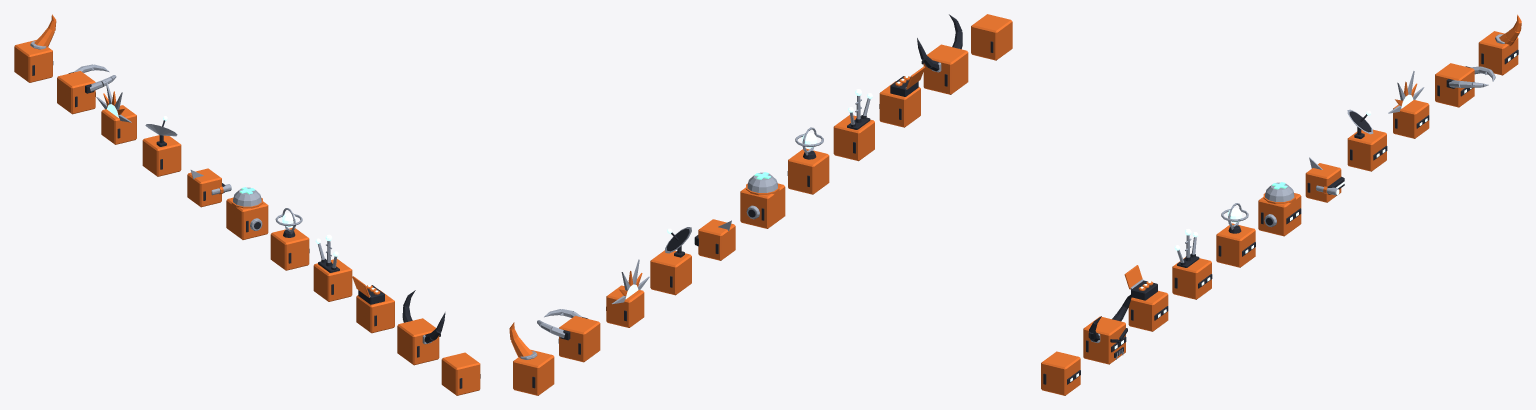
Rendered from heads.glb.
3 views of the same model, side by side, from view 1: azimuth 30°, elevation 25°; view 2: azimuth 150°, elevation 25°; view 3: azimuth 330°, elevation 25° (orthographic). The views are drawn at different scales.
Parts seen in each view (by area): view 1: demon, medic, orb, pincer, antenna, horn, dish, dispenser, crest, rookie, visor; view 2: demon, medic, dish, pincer, orb, horn, antenna, dispenser, crest, rookie, visor; view 3: dispenser, demon, medic, orb, antenna, dish, pincer, horn, crest, rookie, visor.
Part boxes in pixels (x1=…): demon: x1=397, y1=290, x2=445, y2=365; medic: x1=226, y1=187, x2=268, y2=239; orb: x1=270, y1=208, x2=309, y2=270; pincer: x1=57, y1=64, x2=116, y2=114; antenna: x1=313, y1=234, x2=352, y2=301; horn: x1=14, y1=14, x2=56, y2=82; dish: x1=142, y1=116, x2=181, y2=176; dispenser: x1=352, y1=276, x2=394, y2=333; crest: x1=96, y1=80, x2=136, y2=144; rookie: x1=441, y1=352, x2=480, y2=395; visor: x1=187, y1=168, x2=232, y2=207; demon: x1=917, y1=14, x2=968, y2=94; medic: x1=740, y1=172, x2=785, y2=228; dish: x1=650, y1=227, x2=691, y2=295; pincer: x1=537, y1=309, x2=600, y2=362; orb: x1=787, y1=127, x2=829, y2=194; horn: x1=509, y1=322, x2=554, y2=395; antenna: x1=833, y1=89, x2=874, y2=161; dispenser: x1=879, y1=66, x2=925, y2=127; crest: x1=606, y1=259, x2=649, y2=327; rookie: x1=971, y1=14, x2=1012, y2=60; visor: x1=694, y1=219, x2=735, y2=260; dispenser: x1=1124, y1=265, x2=1168, y2=331; demon: x1=1083, y1=294, x2=1132, y2=364; medic: x1=1258, y1=182, x2=1301, y2=236; orb: x1=1216, y1=203, x2=1255, y2=267; antenna: x1=1172, y1=229, x2=1212, y2=299; dish: x1=1347, y1=109, x2=1387, y2=171; pincer: x1=1435, y1=63, x2=1495, y2=107; horn: x1=1478, y1=14, x2=1521, y2=75; crest: x1=1388, y1=71, x2=1429, y2=138; rookie: x1=1041, y1=351, x2=1080, y2=395; visor: x1=1305, y1=157, x2=1344, y2=202.
Bounding box in the file's own units: 1.07 × 1.17 × 15.56.
